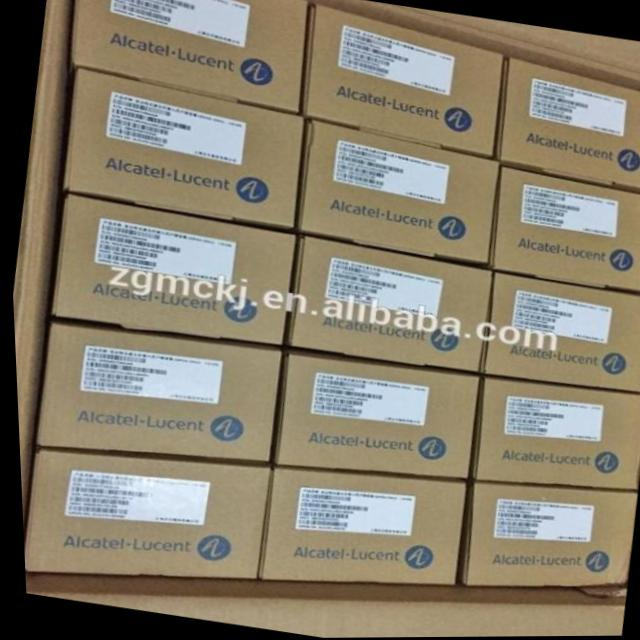box: (47, 193, 299, 350), (60, 72, 304, 233), (32, 326, 275, 466), (19, 451, 265, 581), (303, 1, 505, 159), (295, 120, 494, 271), (286, 238, 490, 376), (71, 0, 310, 117), (270, 352, 476, 482), (252, 465, 464, 588), (460, 378, 640, 492), (477, 272, 640, 394), (488, 165, 640, 295), (496, 58, 640, 194), (453, 485, 632, 586)
